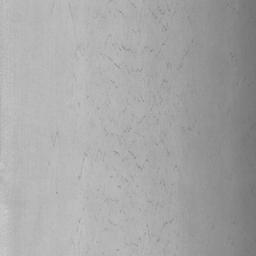Silk spot: (119, 45, 136, 56)
